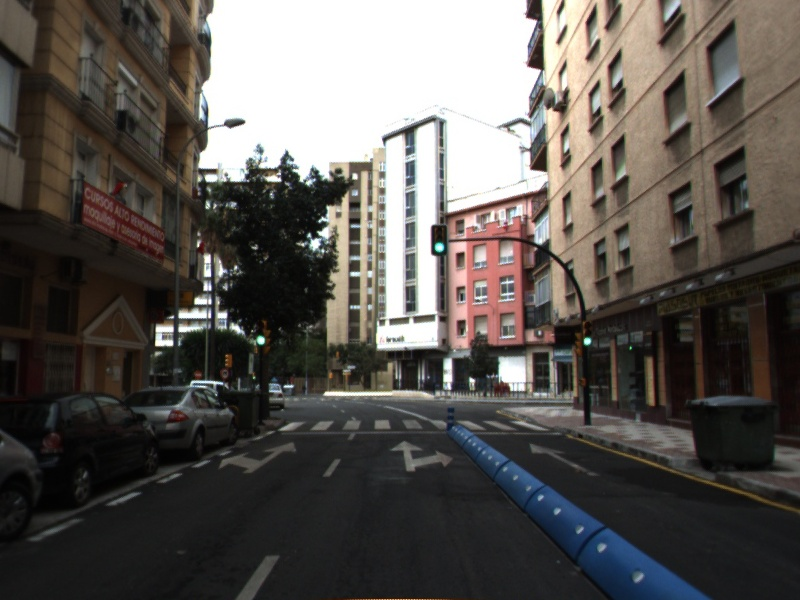STRAIGHT: (527, 440, 603, 479)
STRAIGHT_LEFT: (216, 440, 300, 476)
STRAIGHT_RIGHT: (387, 438, 457, 474)
